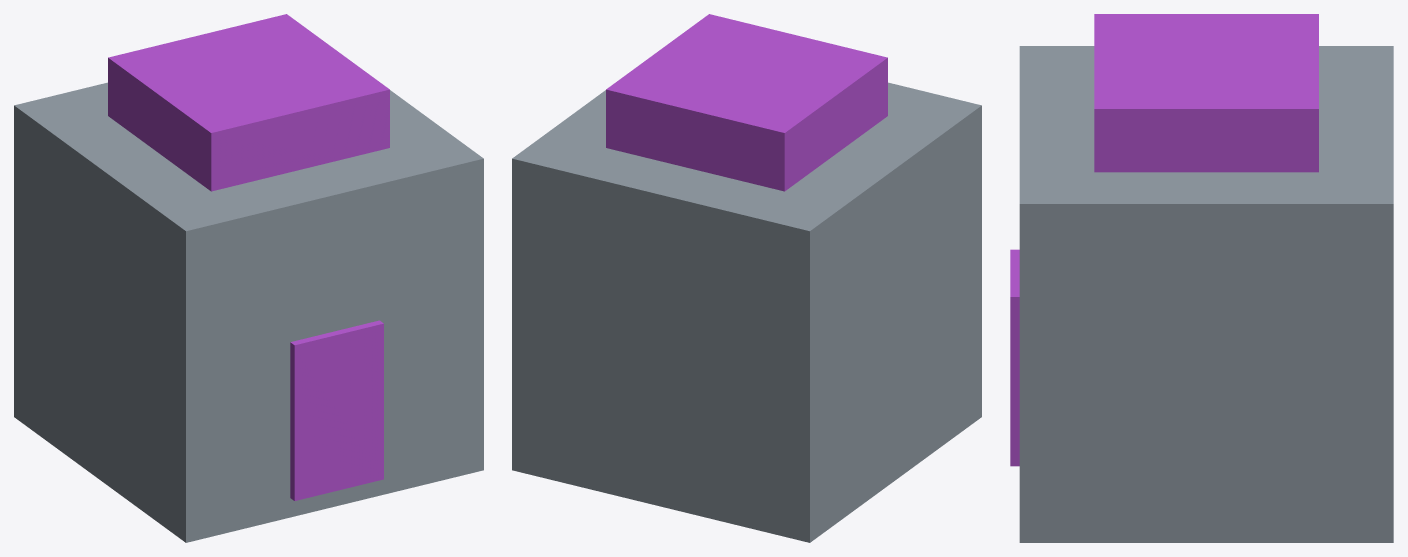
File: CH_CausalityAnchor_LOD0.glb
The picture shows the model from 3 angles, left to right: view 1: azimuth 30°, elevation 25°; view 2: azimuth 150°, elevation 25°; view 3: azimuth 270°, elevation 25°; orthographic projection. The views are drawn at different scales.
Parts seen in each view (by area): view 1: EntranceGate; view 2: EntranceGate; view 3: EntranceGate.
Boxes of the visible parts, x1,y1,x2,y2 form: EntranceGate: (14, 14, 483, 542); EntranceGate: (512, 14, 981, 542); EntranceGate: (1010, 14, 1393, 542).
Bounding box in the file's own units: 400 × 475 × 410.
